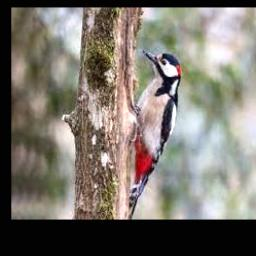Woodpecker: (129, 49, 181, 220)
